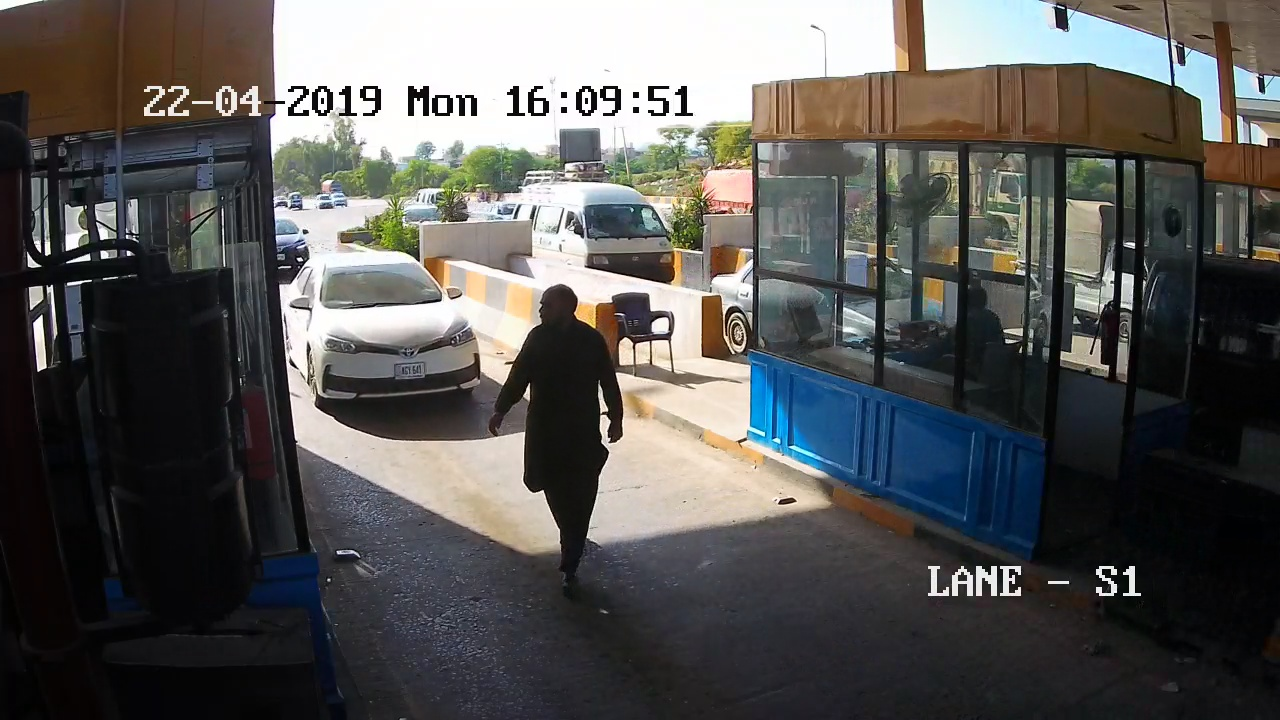Number Plate (Car): (392, 362, 427, 378)
